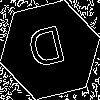D: (25, 25, 70, 78)
